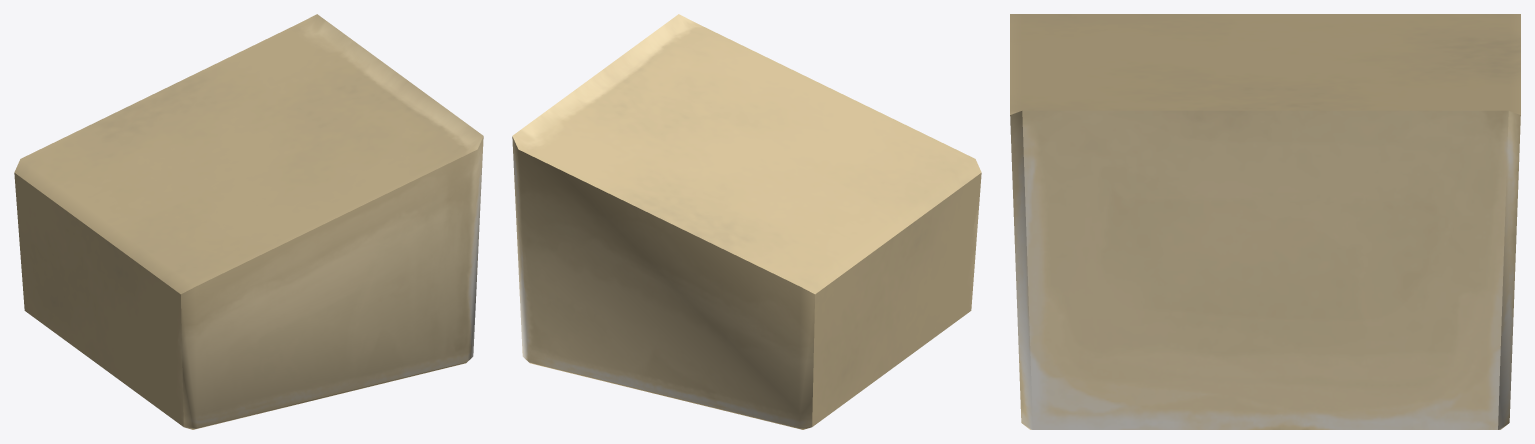
File: menu_pillarTop.fbx
3 renders of one model, left to right at view 1: azimuth 30°, elevation 25°; view 2: azimuth 150°, elevation 25°; view 3: azimuth 270°, elevation 25°, orthographic. The views are drawn at different scales.
Visible parts, largest first — view 1: Box035; view 2: Box035; view 3: Box035.
Boxes of the visible parts, <box> form: Box035: <box>14,14,483,429</box>; Box035: <box>512,14,981,429</box>; Box035: <box>1010,14,1520,429</box>.
Bounding box in the file's own units: 9.72 × 6.93 × 9.72.
Materials: 1 (1 with a texture image).
